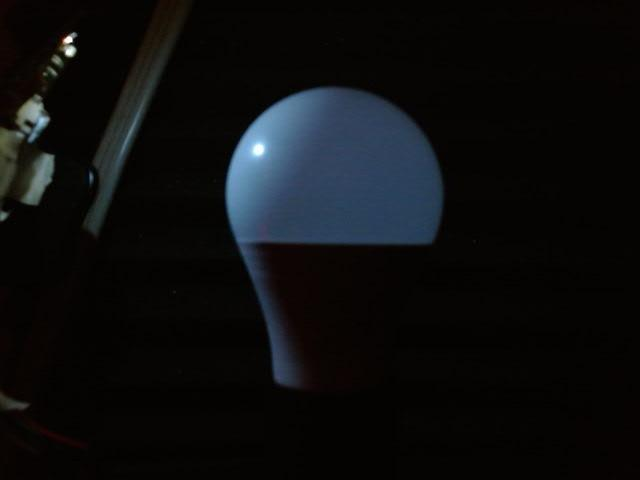Fan: (219, 79, 453, 299)
